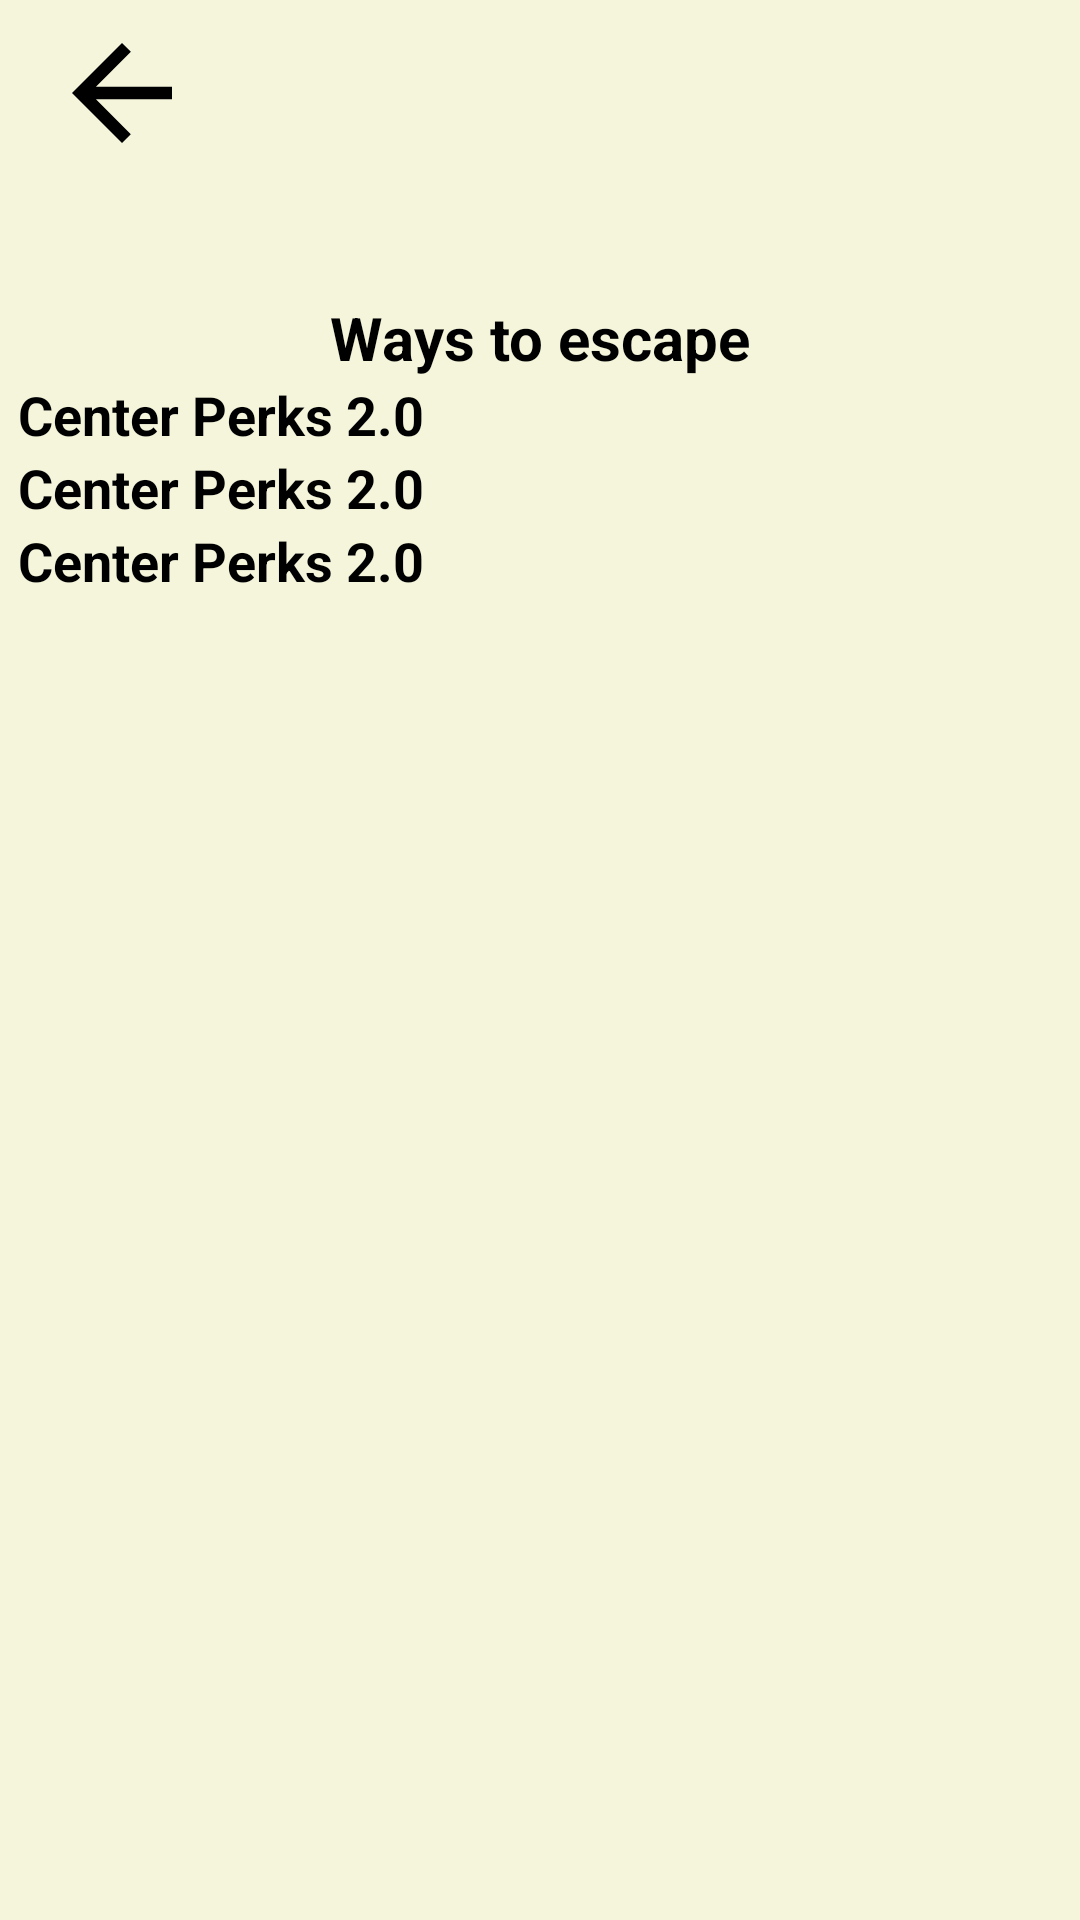

Named icons in this screenshot (1080 × 1920) and their bounding boxes, detection(x1, y1, x2, y2):
arrow back: detection(72, 43, 172, 143)
